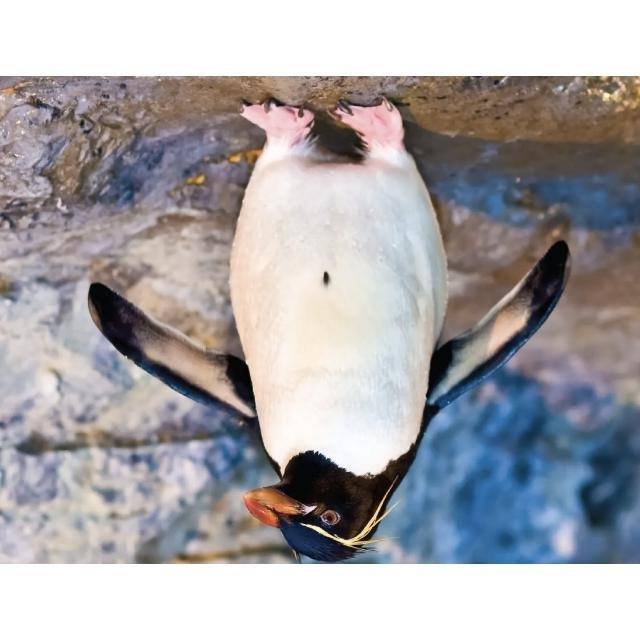penguin: (87, 95, 570, 561)
